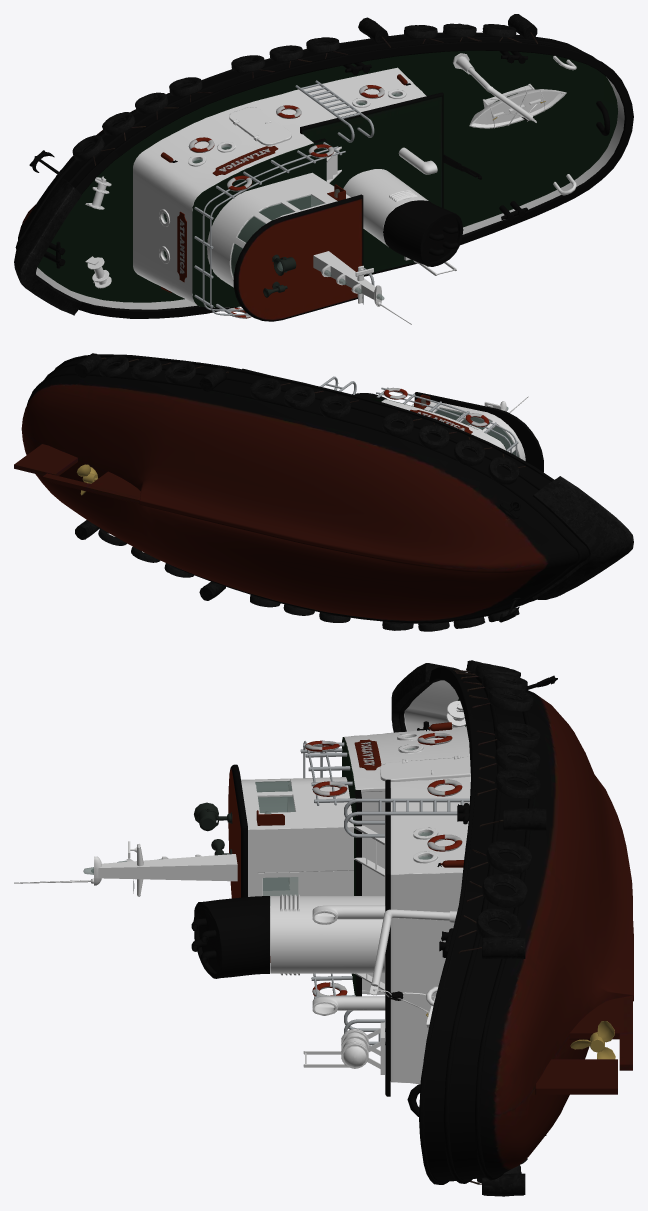
Rendered from boat.glb.
3 views of the same model, one above another, from view 1: azimuth 30°, elevation 25°; view 2: azimuth 150°, elevation 25°; view 3: azimuth 270°, elevation 25° (orthographic). The views are drawn at different scales.
Parts seen in each view (by area): view 1: Object_2, Object_15, Object_10, Object_3, Object_5, Object_12, Object_9; view 2: Object_2, Object_3, Object_10, Object_15, Object_12, Object_9, Object_5; view 3: Object_2, Object_15, Object_3, Object_10, Object_5, Object_12, Object_9.
Boxes of the visible parts, bbox=[...] form: Object_2: bbox=[15, 32, 633, 318]; Object_15: bbox=[85, 53, 576, 324]; Object_10: bbox=[160, 74, 443, 321]; Object_3: bbox=[14, 14, 537, 315]; Object_5: bbox=[29, 51, 609, 268]; Object_12: bbox=[194, 80, 545, 316]; Object_9: bbox=[162, 92, 402, 300]; Object_2: bbox=[14, 354, 588, 623]; Object_3: bbox=[75, 353, 633, 631]; Object_10: bbox=[242, 368, 543, 472]; Object_15: bbox=[199, 362, 528, 460]; Object_12: bbox=[77, 376, 518, 495]; Object_9: bbox=[420, 399, 518, 457]; Object_5: bbox=[352, 393, 519, 622]; Object_2: bbox=[399, 667, 633, 1184]; Object_15: bbox=[14, 700, 470, 1084]; Object_3: bbox=[391, 660, 546, 1196]; Object_10: bbox=[194, 722, 463, 1096]; Object_5: bbox=[191, 675, 557, 1116]; Object_12: bbox=[133, 740, 615, 1059]; Object_9: bbox=[83, 737, 432, 905].
Bounding box in the file's own units: 1759 × 645 × 1114.
7 materials, 7 textured.
